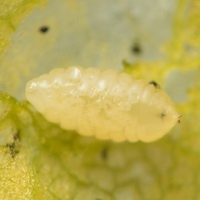insect: (25, 67, 178, 141)
